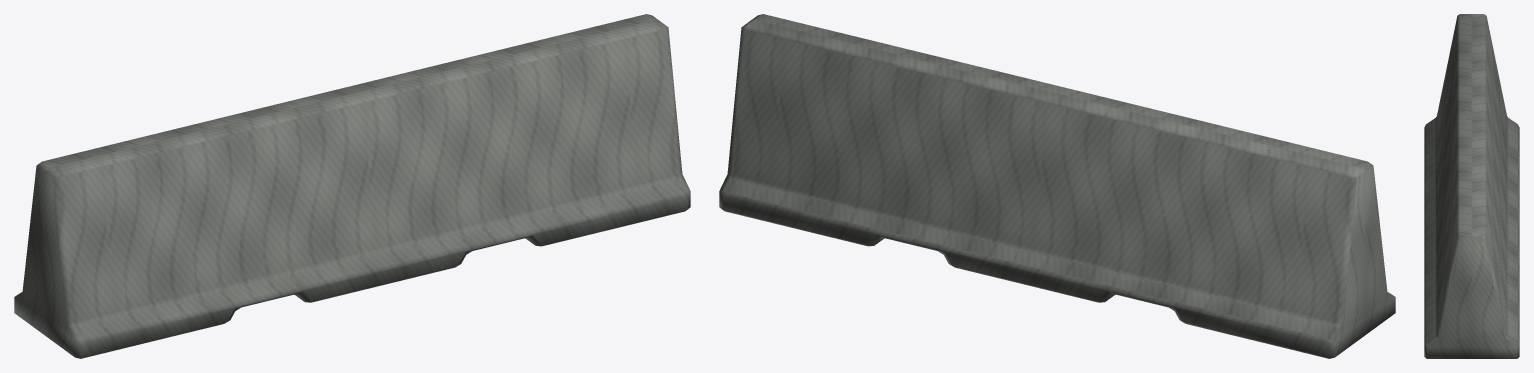
File: concrete-wall.glb
3 views of the same model, side by side, from view 1: azimuth 30°, elevation 25°; view 2: azimuth 150°, elevation 25°; view 3: azimuth 270°, elevation 25° (orthographic). The views are drawn at different scales.
Parts seen in each view (by area): view 1: lod_0; view 2: lod_0; view 3: lod_0.
Boxes of the visible parts, bbox=[...] form: lod_0: bbox=[14, 14, 690, 358]; lod_0: bbox=[719, 14, 1395, 358]; lod_0: bbox=[1424, 14, 1519, 358].
Size of the model in its own units: 4 by 1.05 by 0.72.
Materials: 1 (1 with a texture image).
